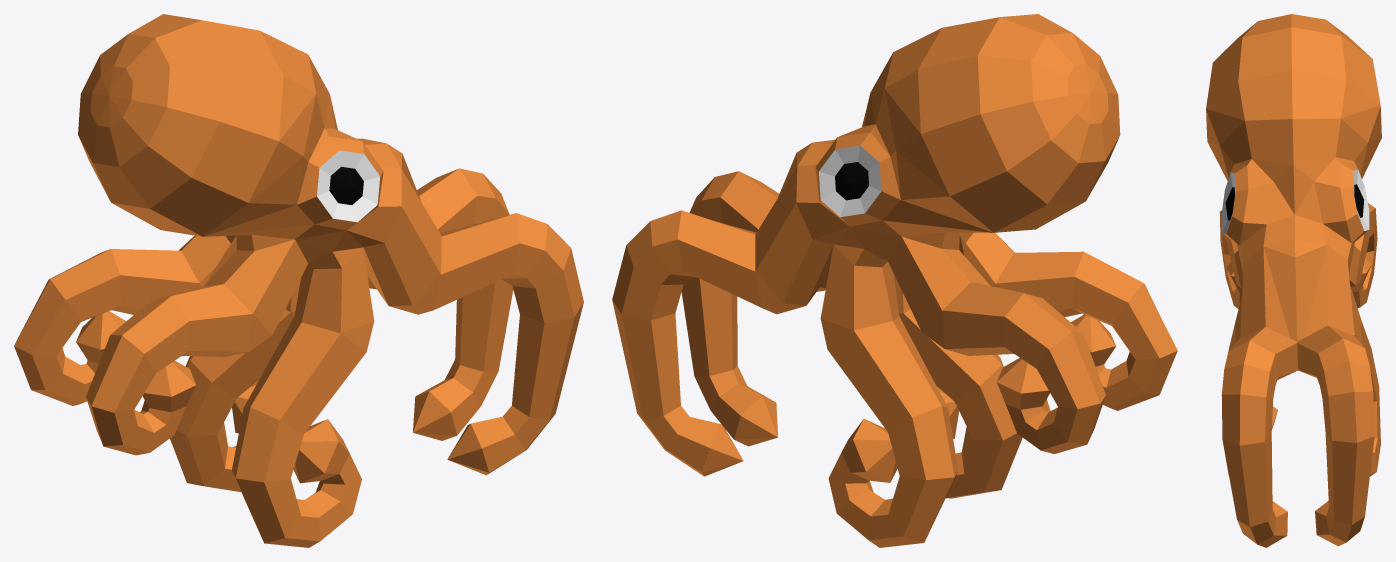
Rendered from octopus(1).fbx.
3 renders of one model, left to right at view 1: azimuth 30°, elevation 25°; view 2: azimuth 150°, elevation 25°; view 3: azimuth 270°, elevation 25°, orthographic. The views are drawn at different scales.
Parts seen in each view (by area): view 1: octopus; view 2: octopus; view 3: octopus.
Part boxes in pixels (x1,y1,x2,y2): octopus: (14, 14, 583, 547); octopus: (612, 14, 1177, 547); octopus: (1206, 14, 1381, 547).
Size of the model in its own units: 295 by 299 by 112.
Materials: 1 (1 with a texture image).
